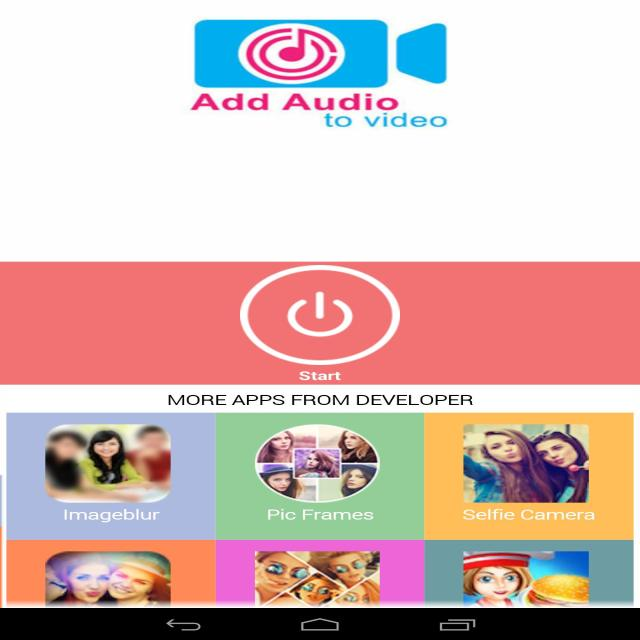button: (230, 264, 400, 384)
image: (0, 411, 635, 609), (0, 262, 639, 384), (187, 12, 454, 132)
text: (167, 394, 478, 408)
